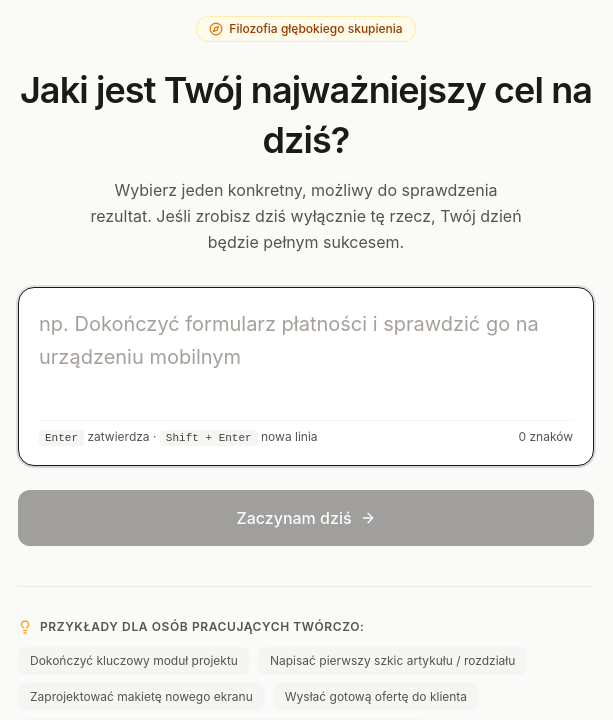
Scenario: GoalInput › przykład wpisuje się do pola i liczy znaki
Click the button "Wysłać gotową ofertę do klienta".
click(376, 697)  # box [273, 683, 479, 711]
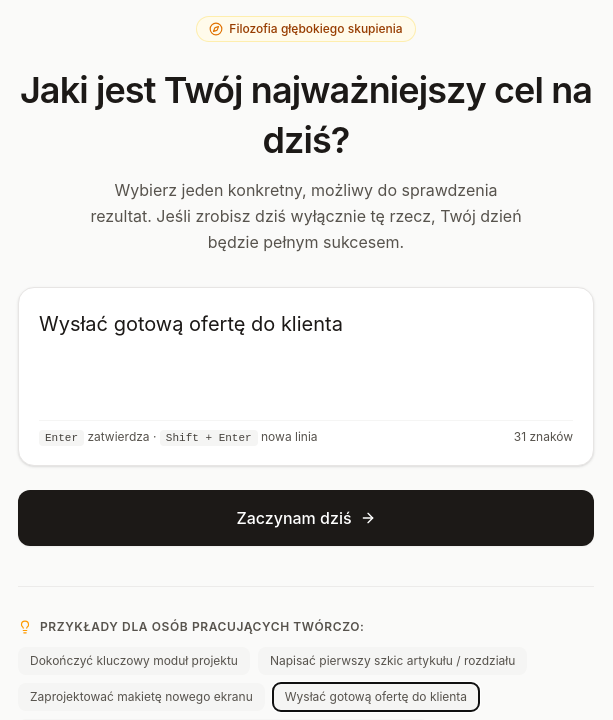
Result: the text box named "Najważniejszy cel na dziś" holds "Wysłać gotową ofertę do klienta" at [39, 308, 573, 406]
